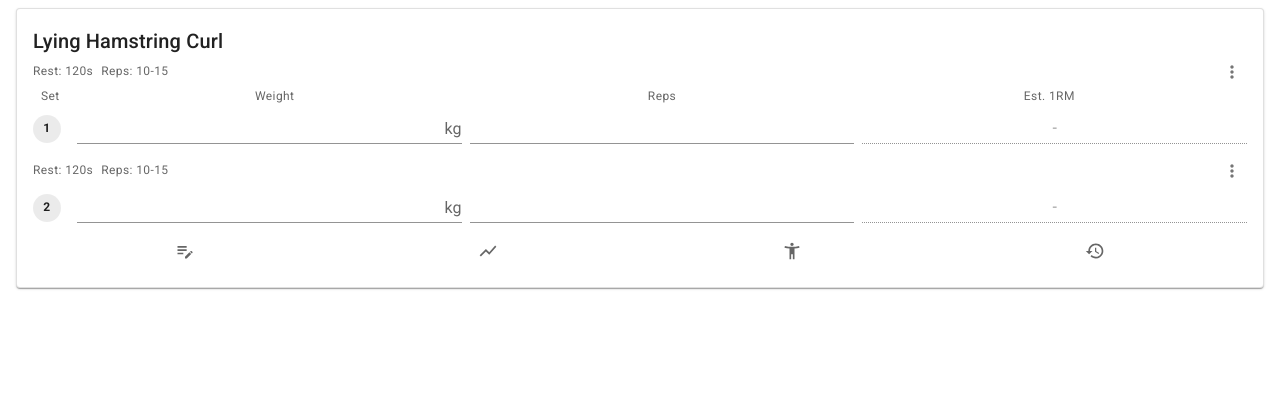
it: GroupedExerciseSlide › shows previous workout tables behind the history tab
The width and height of the screenshot is (1280, 419).
Click the tab named "history".
click(1095, 251)  # box [944, 235, 1247, 267]
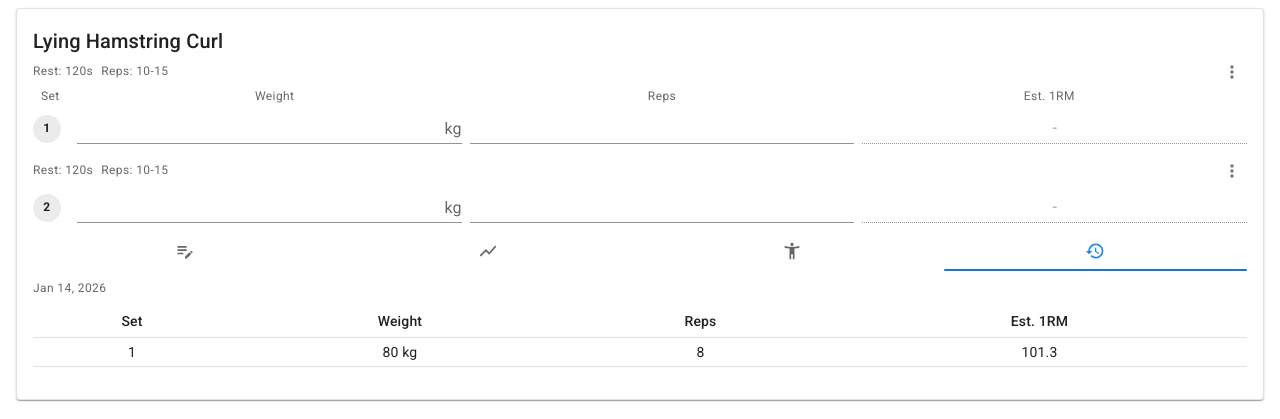
expect the table named "Previous workout table 1" is shown: met, box [33, 305, 1247, 367]
expect the text "Jan 14, 2026" is shown: met, box [33, 281, 106, 295]
